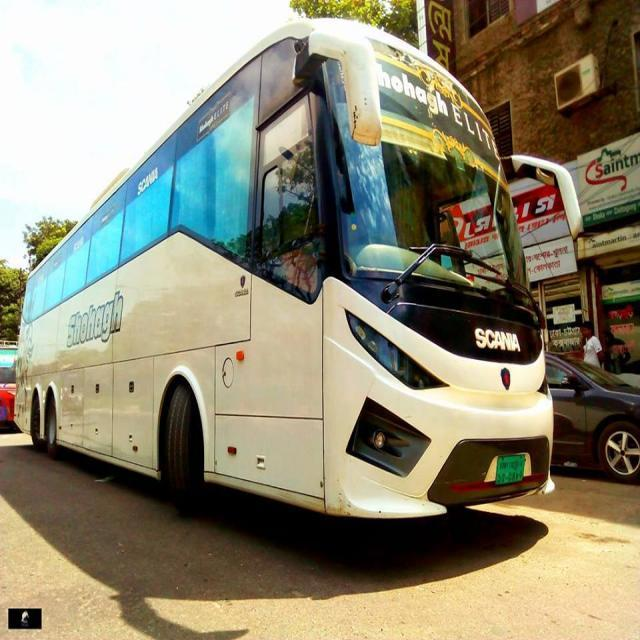bus: (12, 14, 584, 522)
